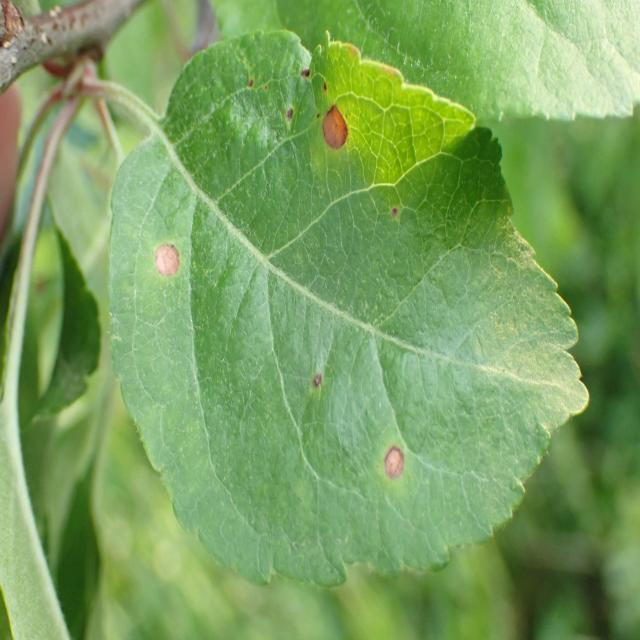Black Rot: (123, 212, 200, 310), (359, 430, 422, 506), (308, 90, 355, 174), (271, 84, 317, 160), (307, 354, 337, 416)
